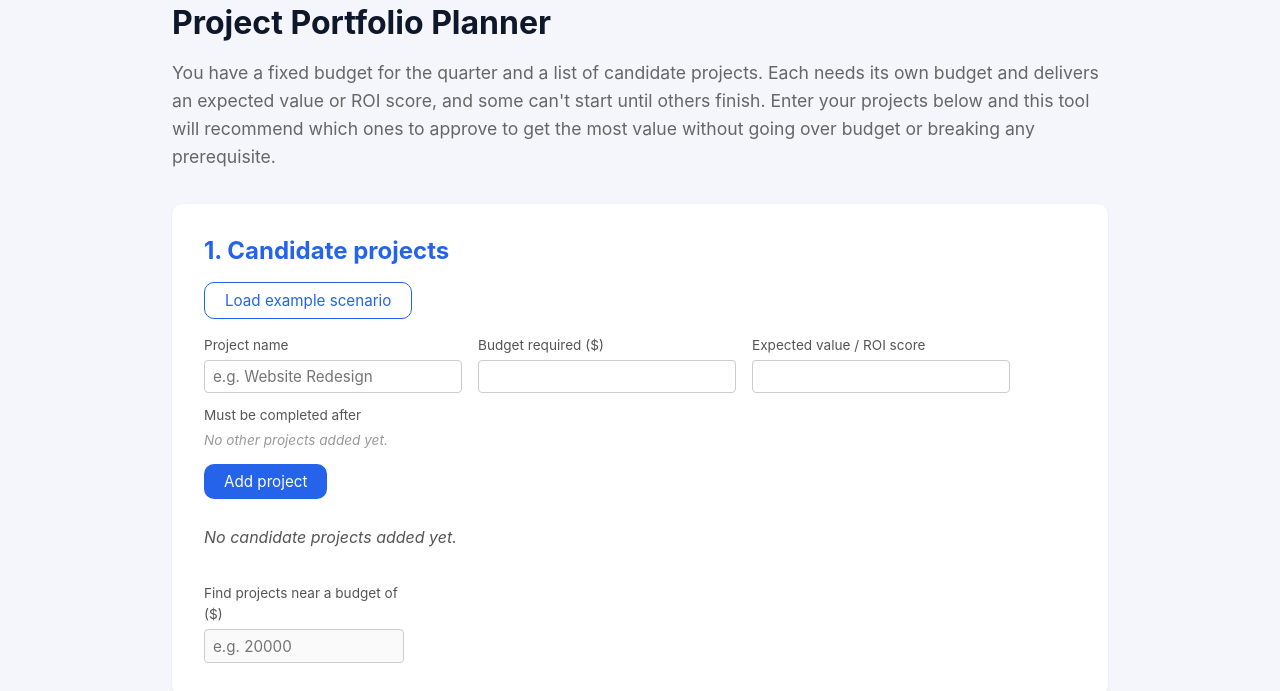
Test: App › shows a validation error instead of a decision when the budget is invalid
The width and height of the screenshot is (1280, 691).
Type "Setup" into the field labelled "Project name" at (333, 376), box 204,360 -> 462,393
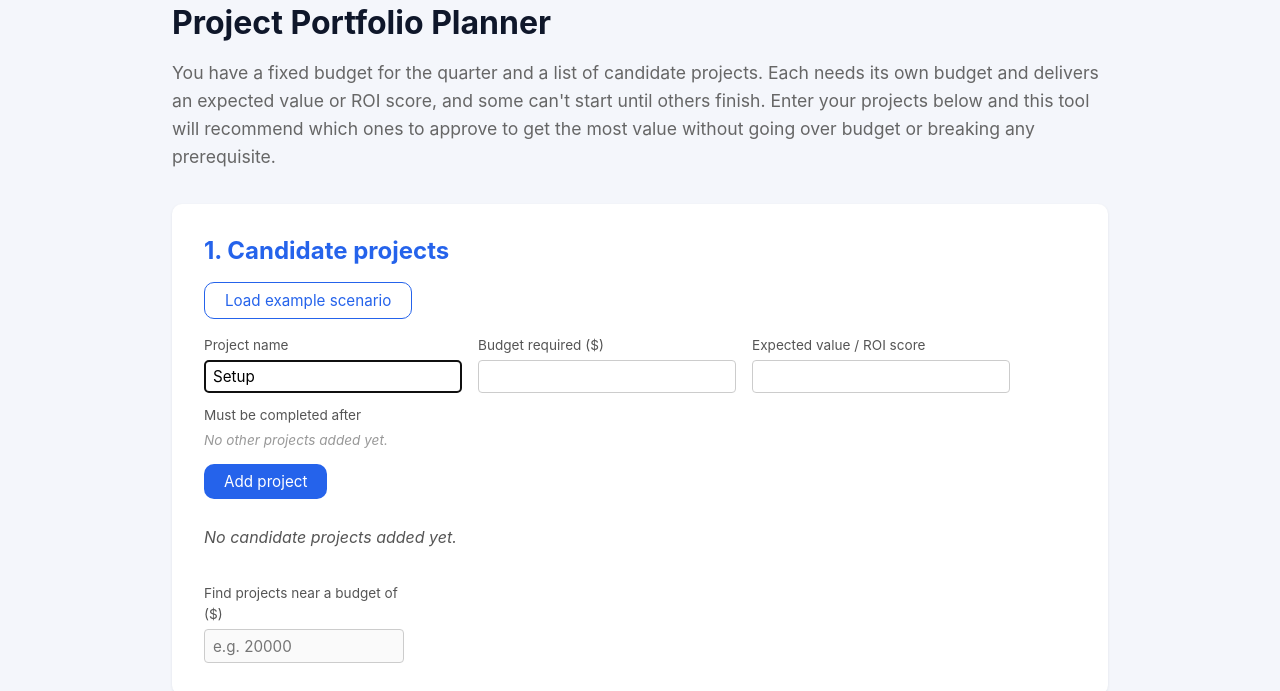
Type "2" into the number field labelled "Budget required ($)" at (607, 376), box 478,360 -> 736,393
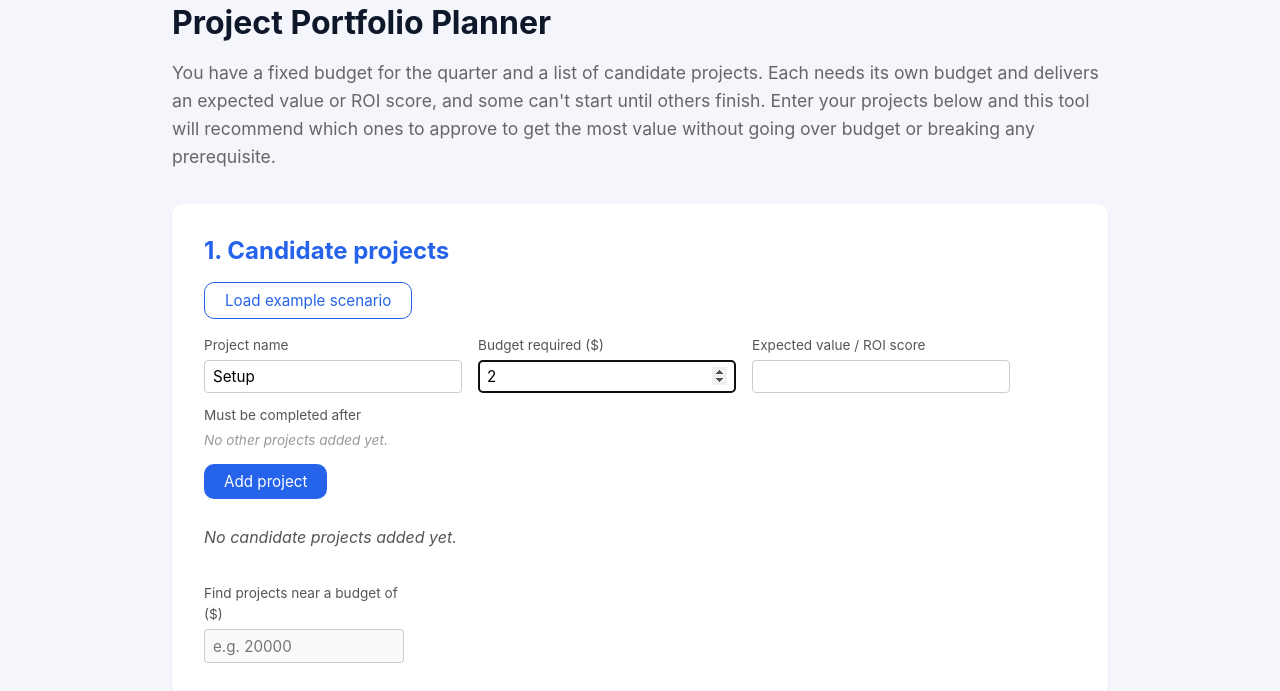
Type "5" into the number field labelled "Expected value / ROI score" at (881, 376), box 752,360 -> 1010,393
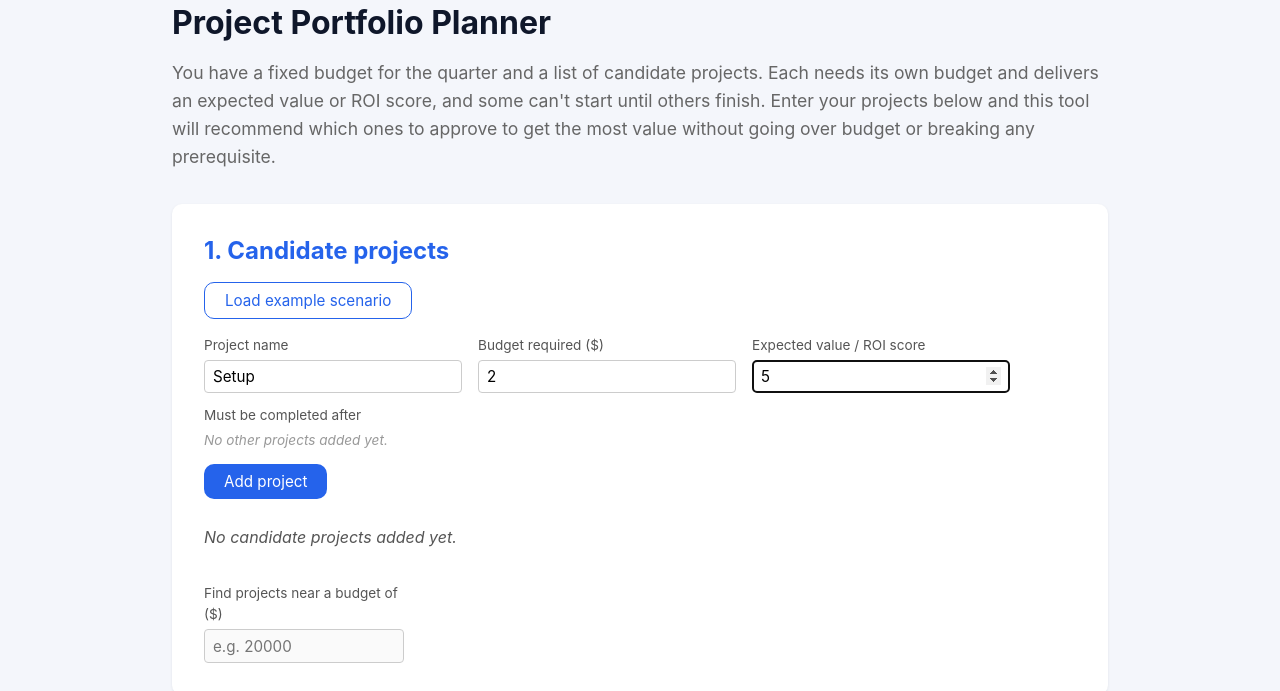
Click the button "Add project" at (266, 481), box 204,464 -> 327,498
(page scrolled)
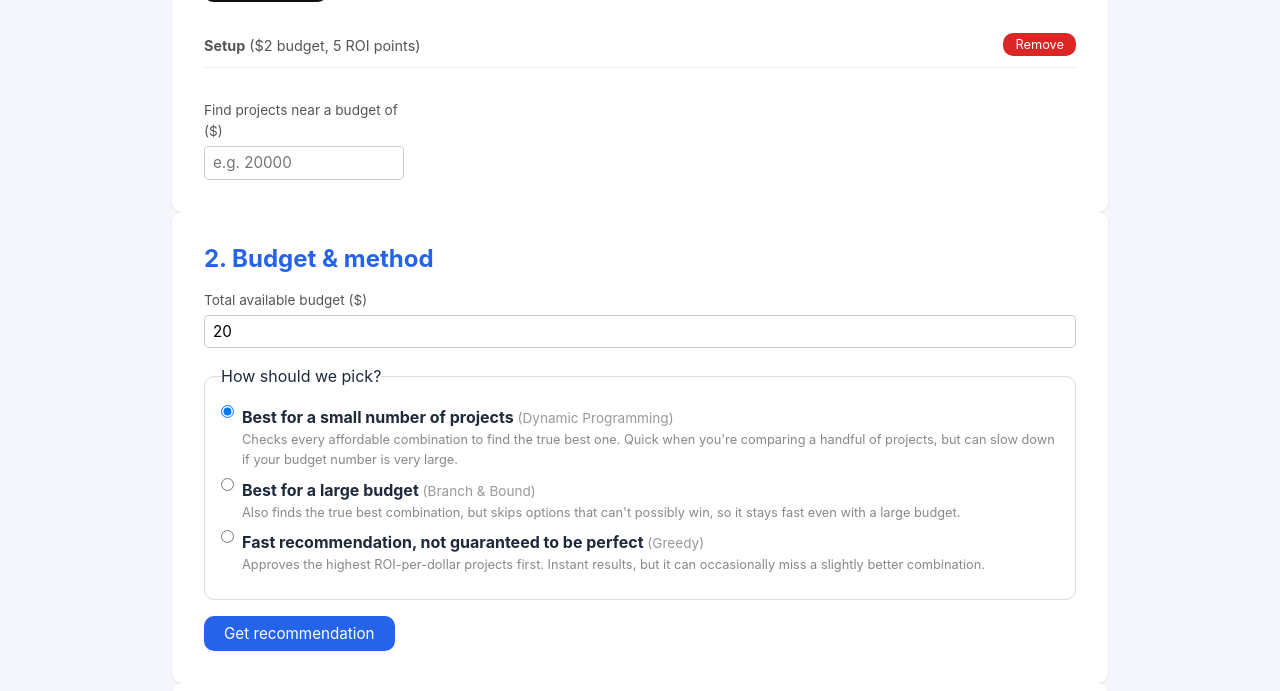
Replace the text in the number field labelled "Total available budget ($)" with "0" at (640, 332), box 204,315 -> 1076,348
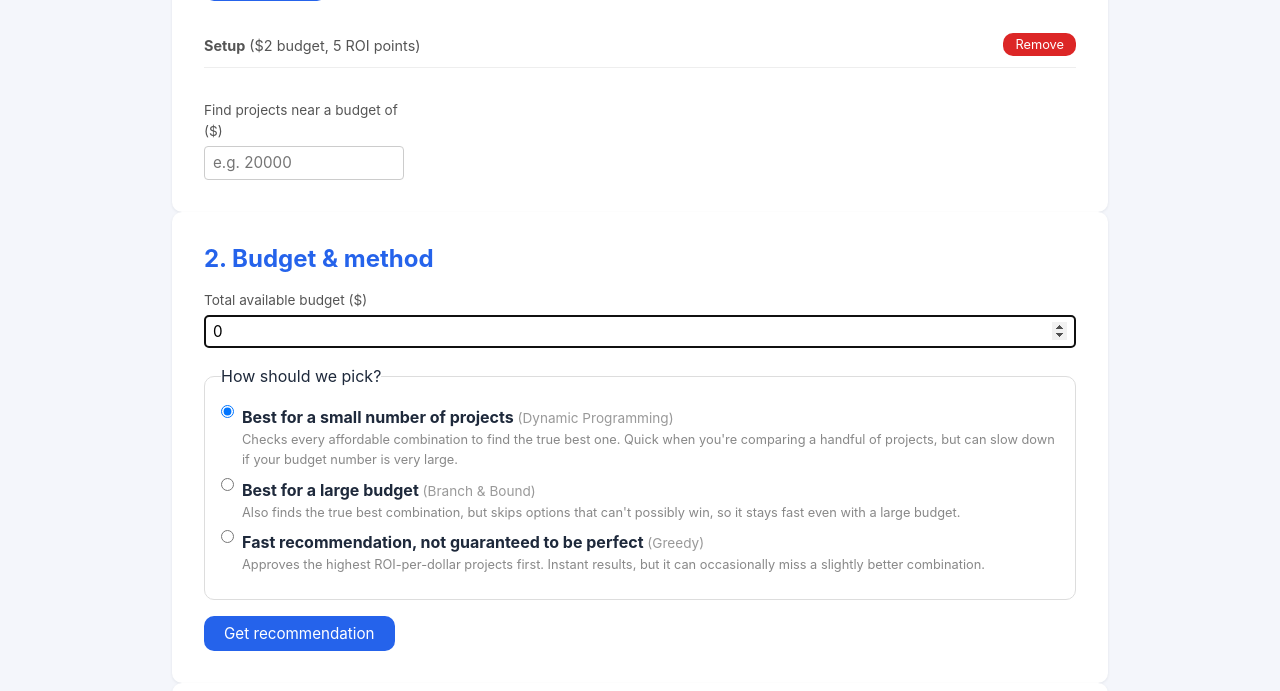
Click the button "Get recommendation" at (299, 634), box 204,616 -> 394,651
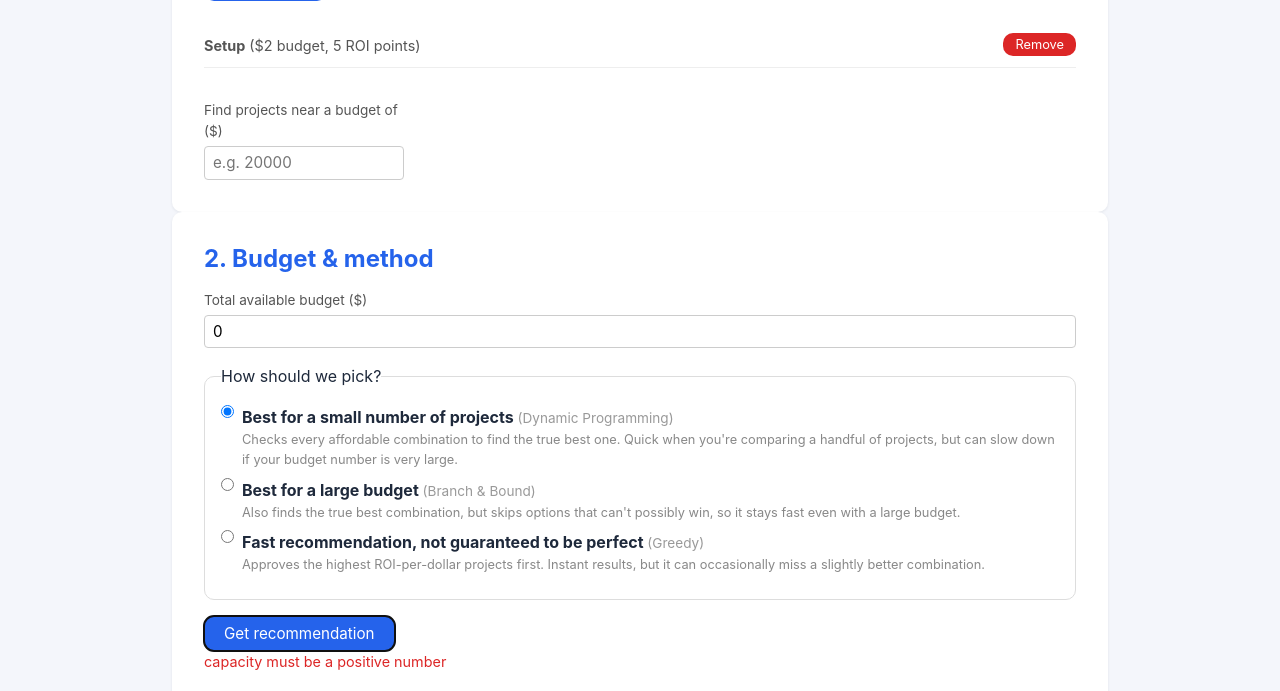
Check: the text "capacity must be a positive number" is shown, box 204,653 -> 446,670
